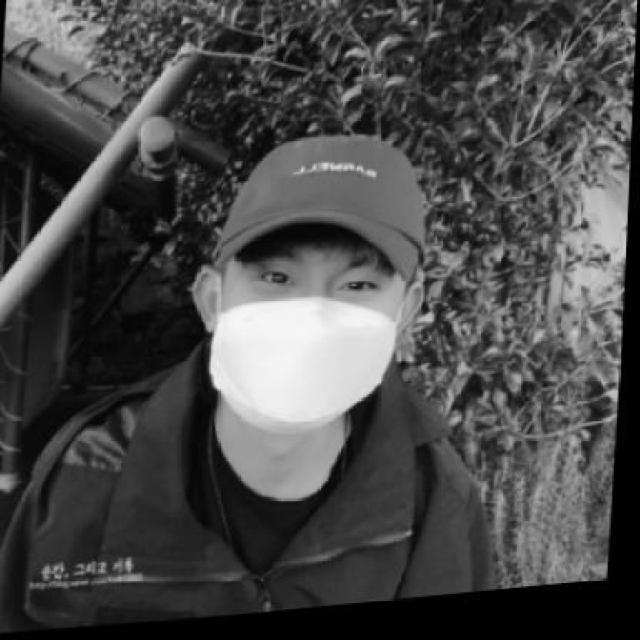hat: (205, 124, 438, 308)
